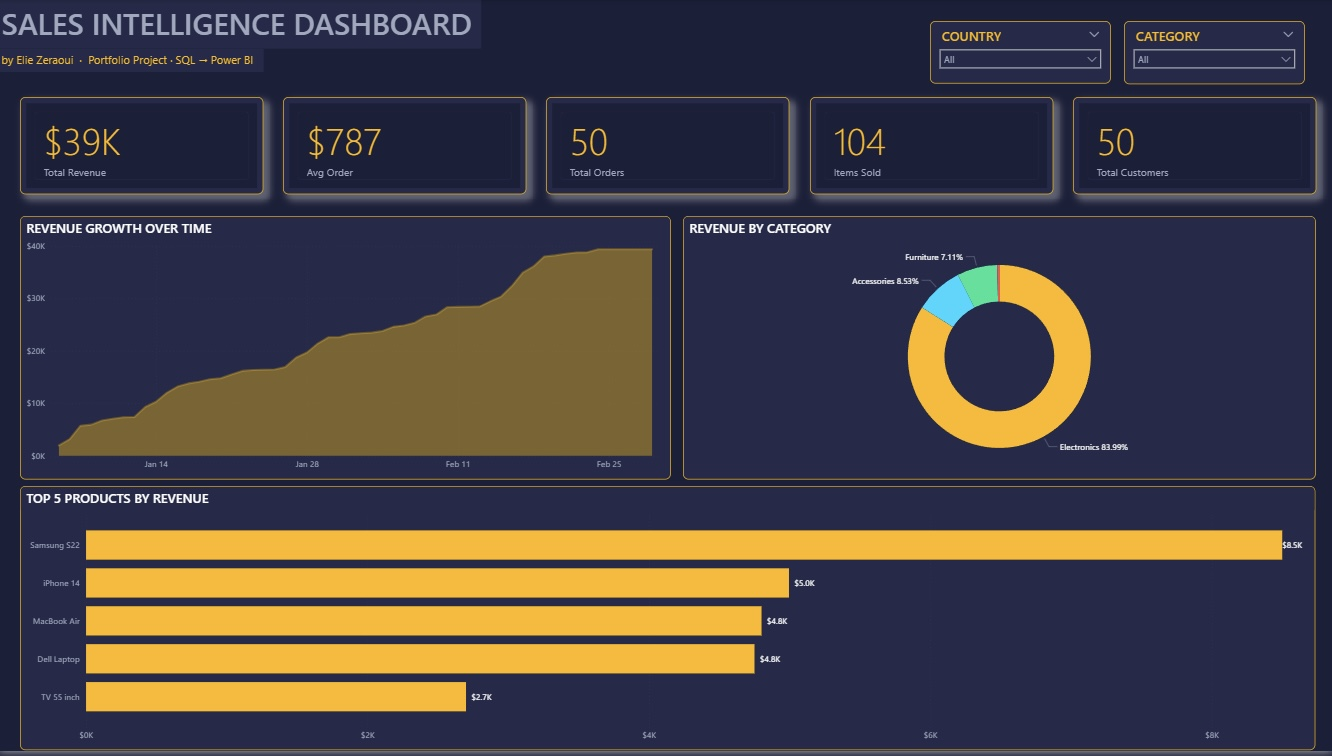

The dashboard page shown, as its layout file describes it:
{"tool":"powerbi","page":{"name":"Overview","canvas":[1920,1080],"ordinal":0},"visuals":[{"type":"textbox","box":[0,0,694.7,70.5],"z":0},{"type":"textbox","box":[0,70.1,381.6,32.8],"z":1000},{"type":"cardVisual","fields":{"Data":["Orders.Total Revenue"]},"box":[31.3,140.1,350.3,140.1],"z":2000},{"type":"cardVisual","fields":{"Data":["Orders.Total Orders"]},"box":[788.6,140.1,350.3,140.1],"z":3000},{"type":"cardVisual","fields":{"Data":["Orders.Total Customers"]},"box":[1545.8,140.1,350.3,140.1],"z":4000},{"type":"cardVisual","fields":{"Data":["Orders.Avg Order Value"]},"box":[409.9,140.1,350.3,140.1],"z":5000},{"type":"cardVisual","fields":{"Data":["Orders.Total Quantity Sold"]},"box":[1167.2,140.1,350.3,140.1],"z":6000},{"type":"areaChart","title":"REVENUE GROWTH OVER TIME","fields":{"Category":["DateTable.Date"],"Y":["Orders.Running Total Revenue"]},"box":[31.9,310.6,936.1,378.8],"z":7000},{"type":"donutChart","title":"REVENUE BY CATEGORY","fields":{"Category":["Products.Category"],"Y":["Orders.Revenue"]},"box":[985.4,310.6,909.9,378.8],"z":8000},{"type":"barChart","title":"TOP 5 PRODUCTS BY REVENUE","fields":{"Category":["Products.ProductName"],"Y":["Orders.Revenue"]},"box":[31.9,699.5,1863.4,380.2],"z":9000},{"type":"slicer","fields":{"Values":["Customers.Country"]},"box":[1340,30,260,90],"z":10000},{"type":"slicer","fields":{"Values":["Products.Category"]},"box":[1620,30,260,90.6],"z":11000}]}

Visuals, with their boxes in screenshot pixels (x1, y1, x2, y2), scaled from the page's 1920x1080 canvas onto the 1332x756 screenshot:
textbox: <region>0, 0, 482, 49</region>
textbox: <region>0, 49, 265, 72</region>
cardVisual - Orders.Total Revenue: <region>22, 98, 265, 196</region>
cardVisual - Orders.Total Orders: <region>547, 98, 790, 196</region>
cardVisual - Orders.Total Customers: <region>1072, 98, 1315, 196</region>
cardVisual - Orders.Avg Order Value: <region>284, 98, 527, 196</region>
cardVisual - Orders.Total Quantity Sold: <region>810, 98, 1053, 196</region>
"REVENUE GROWTH OVER TIME" areaChart: <region>22, 217, 672, 483</region>
"REVENUE BY CATEGORY" donutChart: <region>684, 217, 1315, 483</region>
"TOP 5 PRODUCTS BY REVENUE" barChart: <region>22, 490, 1315, 755</region>
slicer - Customers.Country: <region>930, 21, 1110, 84</region>
slicer - Products.Category: <region>1124, 21, 1304, 84</region>
